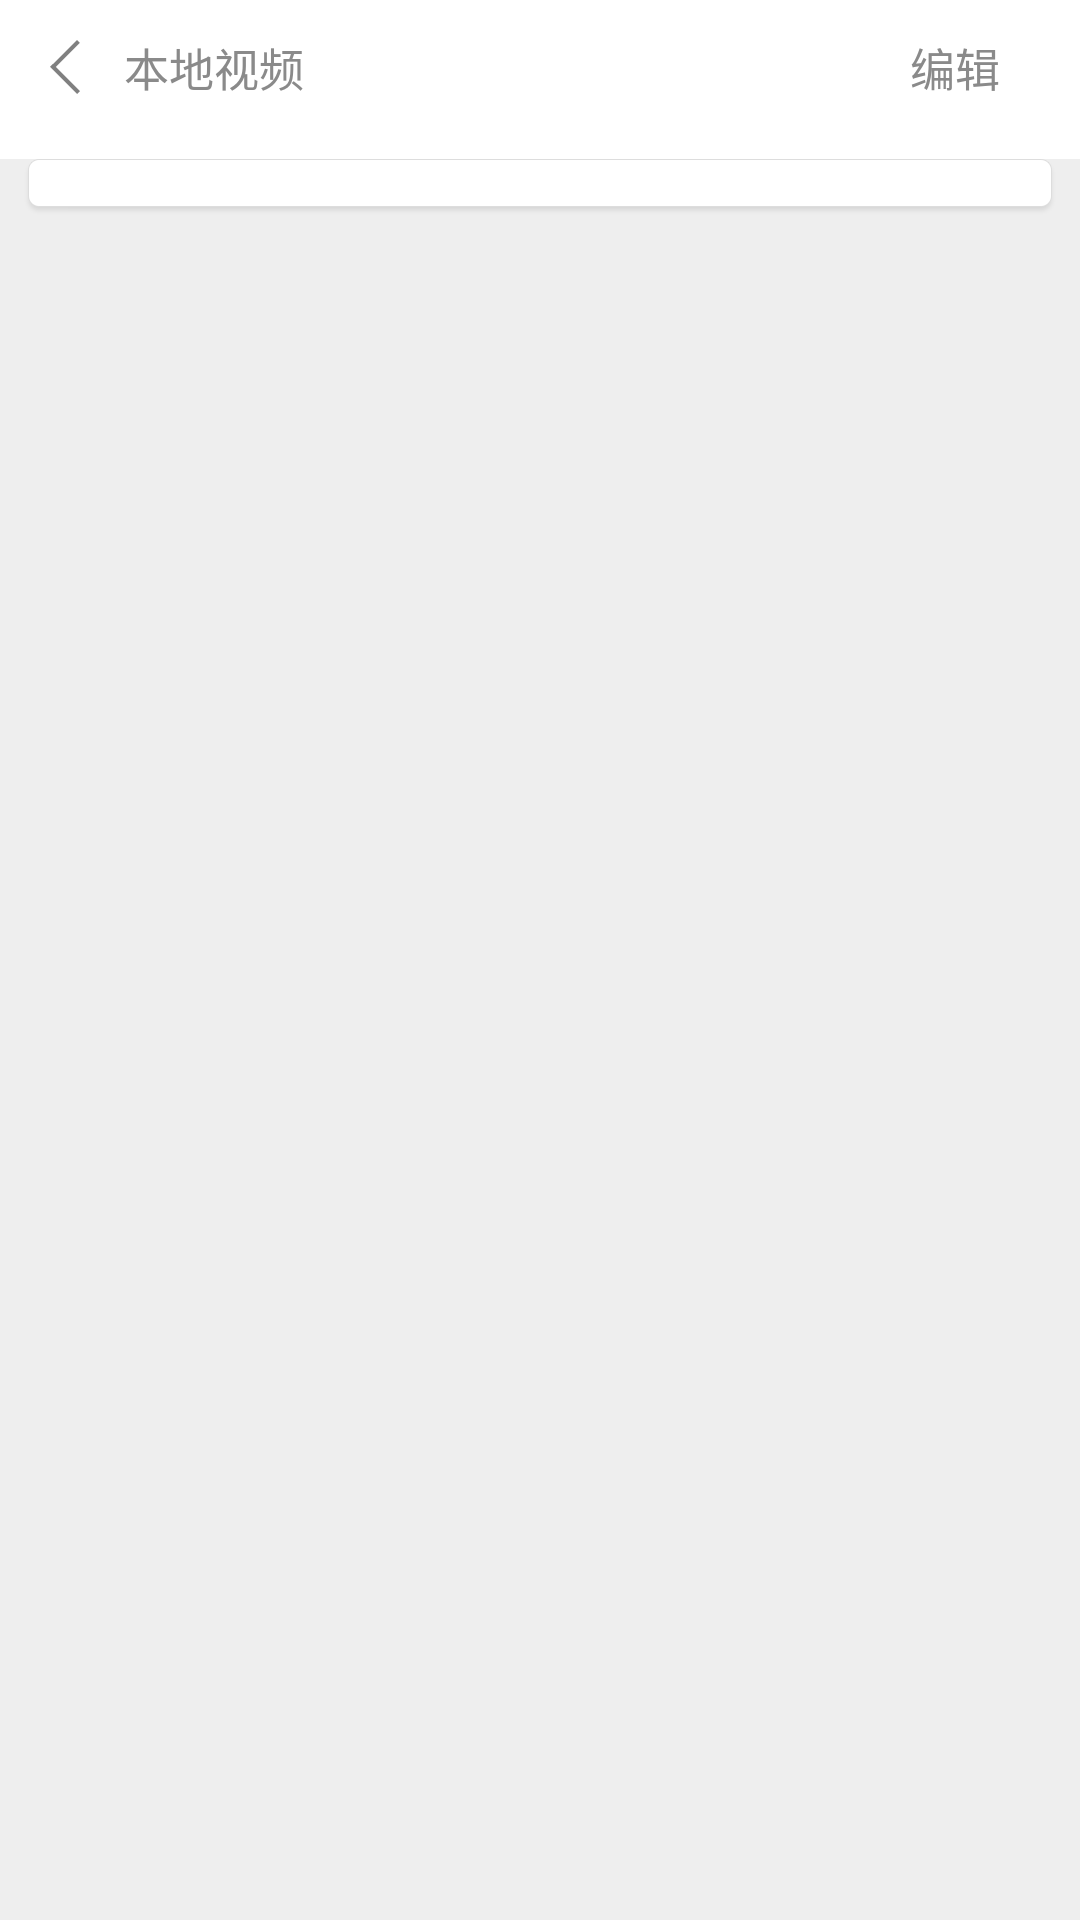

Icons on this 1080w x 1920h Android screen, each with its box as bbox=(x1, y1, x2, y2):
nva back: bbox=(50, 40, 80, 94)
